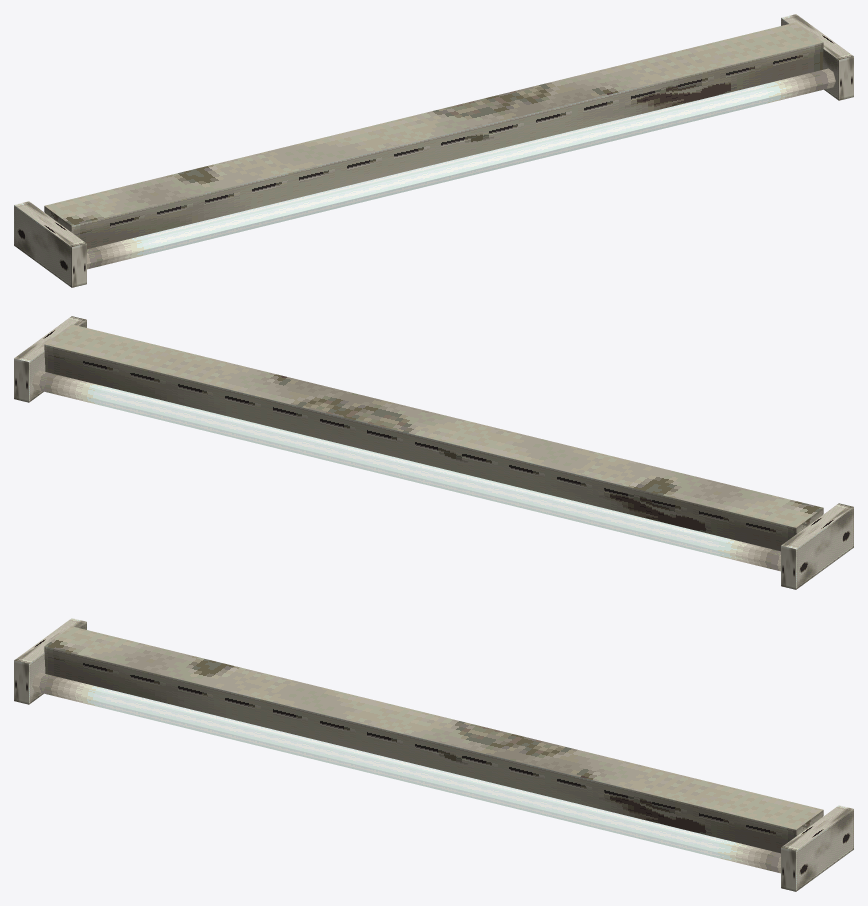
Rendered from fluorescent_fixture.glb.
3 views of the same model, one above another, from view 1: azimuth 30°, elevation 25°; view 2: azimuth 150°, elevation 25°; view 3: azimuth 330°, elevation 25° (orthographic).
Parts seen in each view (by area): view 1: fluorescent_fixture; view 2: fluorescent_fixture; view 3: fluorescent_fixture.
Boxes of the visible parts, x1,y1,x2,y2 form: fluorescent_fixture: (14,14,853,287); fluorescent_fixture: (14,316,853,589); fluorescent_fixture: (14,618,853,891).
Size of the model in its own units: 1.25 by 0.072 by 0.16.
2 materials, 2 textured.
